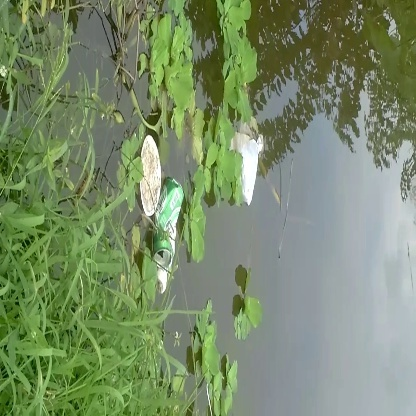bottle: (149, 177, 193, 270)
